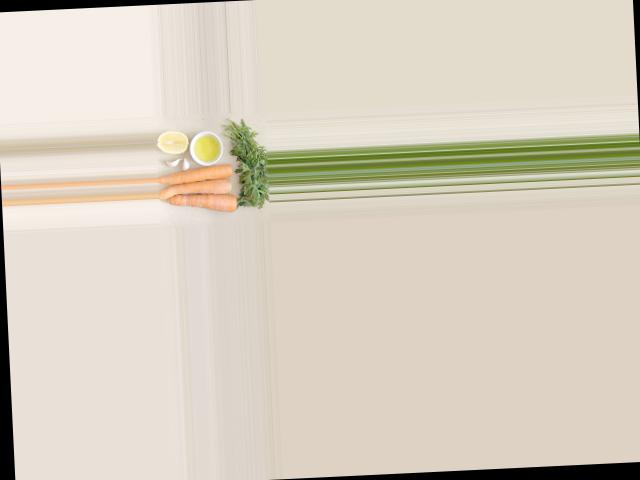carrot: (156, 163, 236, 187)
